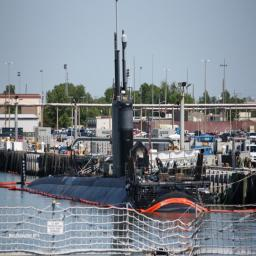submarine: (27, 2, 208, 214)
